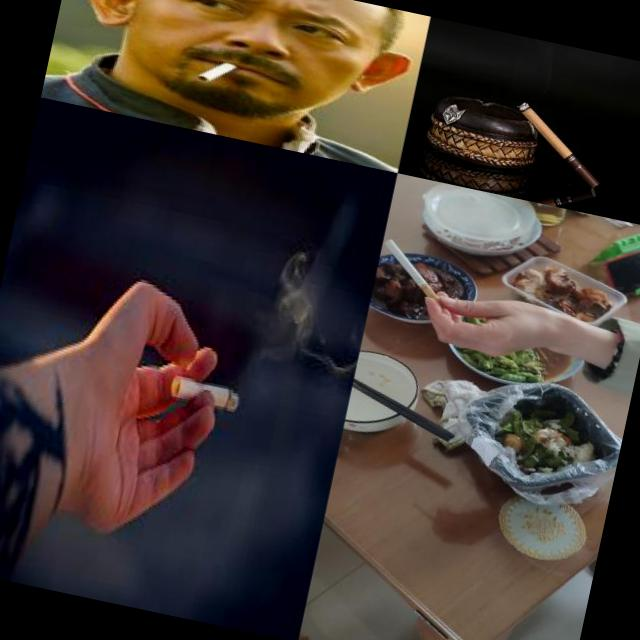cigarette: (500, 98, 612, 191), (373, 237, 457, 307), (168, 374, 242, 414), (182, 48, 236, 88)
